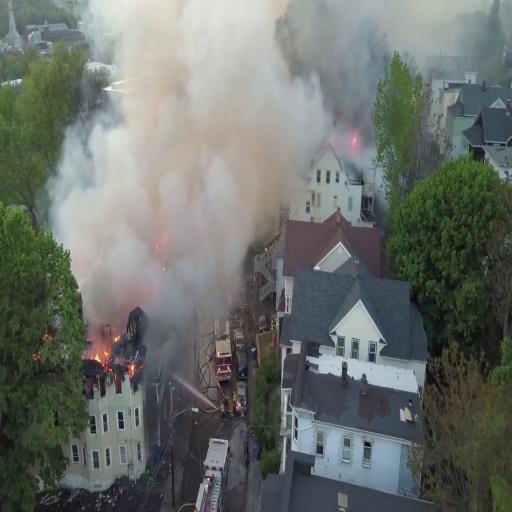smoke: (136, 91, 258, 246)
